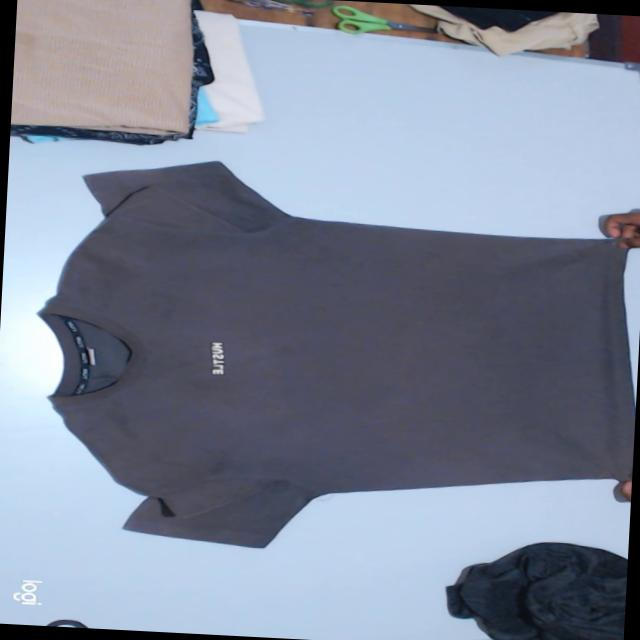new-garment: (41, 163, 635, 547)
